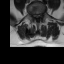CCS_severe_stenosis: (36, 13, 38, 19)
LFS_severe_stenosis: (40, 11, 42, 16)
LLS_severe_stenosis: (38, 13, 40, 18)
RFS_severe_stenosis: (32, 11, 34, 18)
RLS_severe_stenosis: (34, 12, 36, 19)
